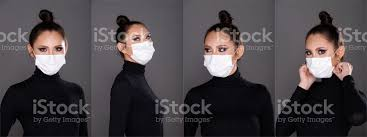with-mask: (197, 20, 246, 82), (299, 20, 344, 83), (26, 15, 69, 78), (111, 20, 161, 68)
